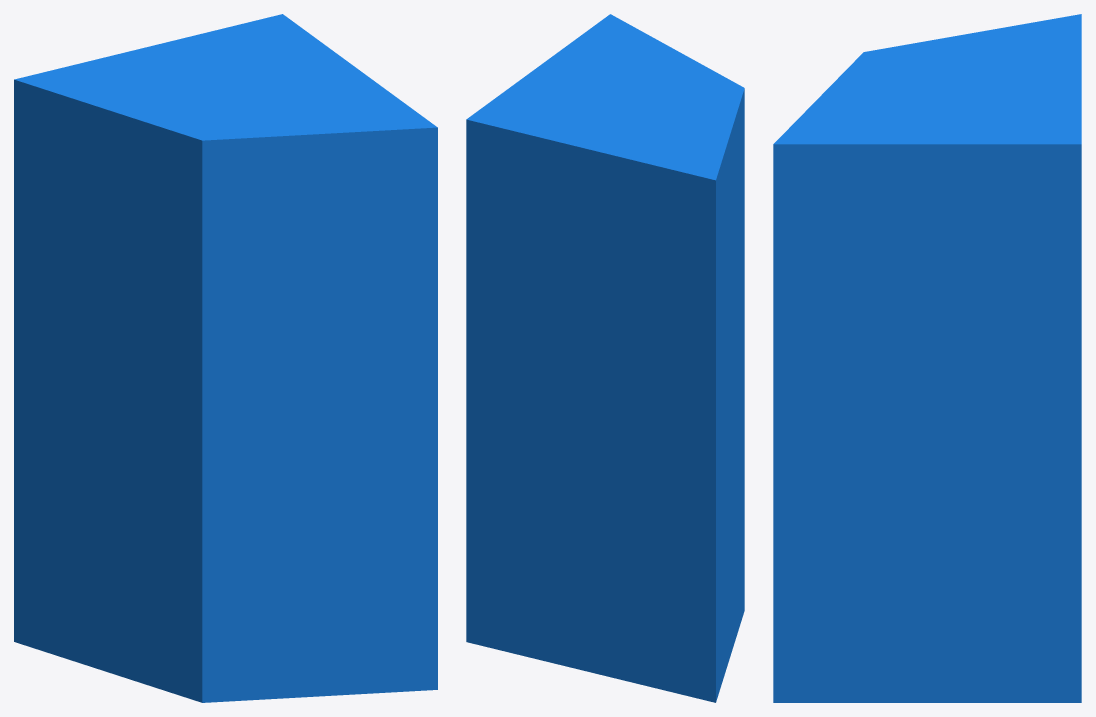
File: Proto_Block_Octagon_Quarter_01.fbx
The picture shows the model from 3 angles, left to right: view 1: azimuth 30°, elevation 25°; view 2: azimuth 150°, elevation 25°; view 3: azimuth 270°, elevation 25°; orthographic projection. The views are drawn at different scales.
Visible parts, largest first — view 1: Proto_Block_Octagon_Quarter_01; view 2: Proto_Block_Octagon_Quarter_01; view 3: Proto_Block_Octagon_Quarter_01.
Part boxes in pixels (bbox=[...]): Proto_Block_Octagon_Quarter_01: bbox=[14, 14, 437, 702]; Proto_Block_Octagon_Quarter_01: bbox=[466, 14, 744, 702]; Proto_Block_Octagon_Quarter_01: bbox=[773, 14, 1081, 702].
Bounding box in the file's own units: 0.5 × 1 × 0.5.
